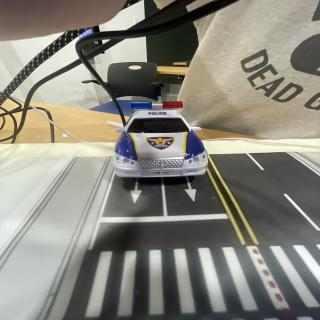Police_car: (113, 101, 208, 177)
